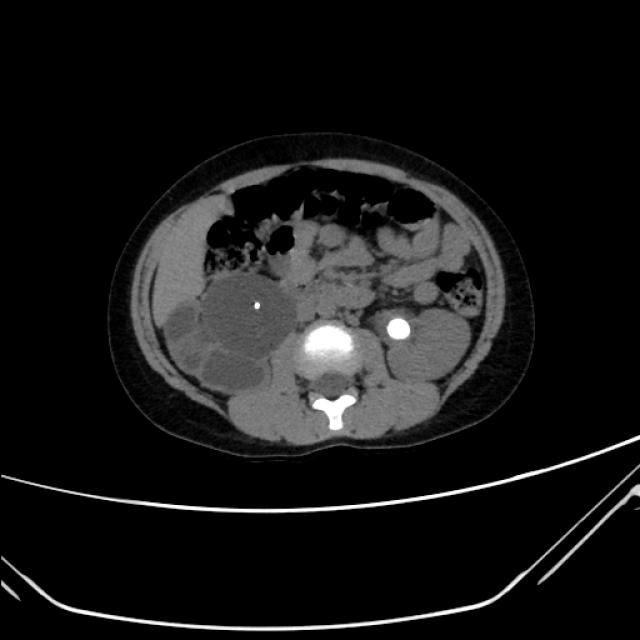kidney: (199, 268, 300, 360), (371, 306, 470, 384)
stone: (388, 316, 414, 342), (252, 300, 263, 312)
